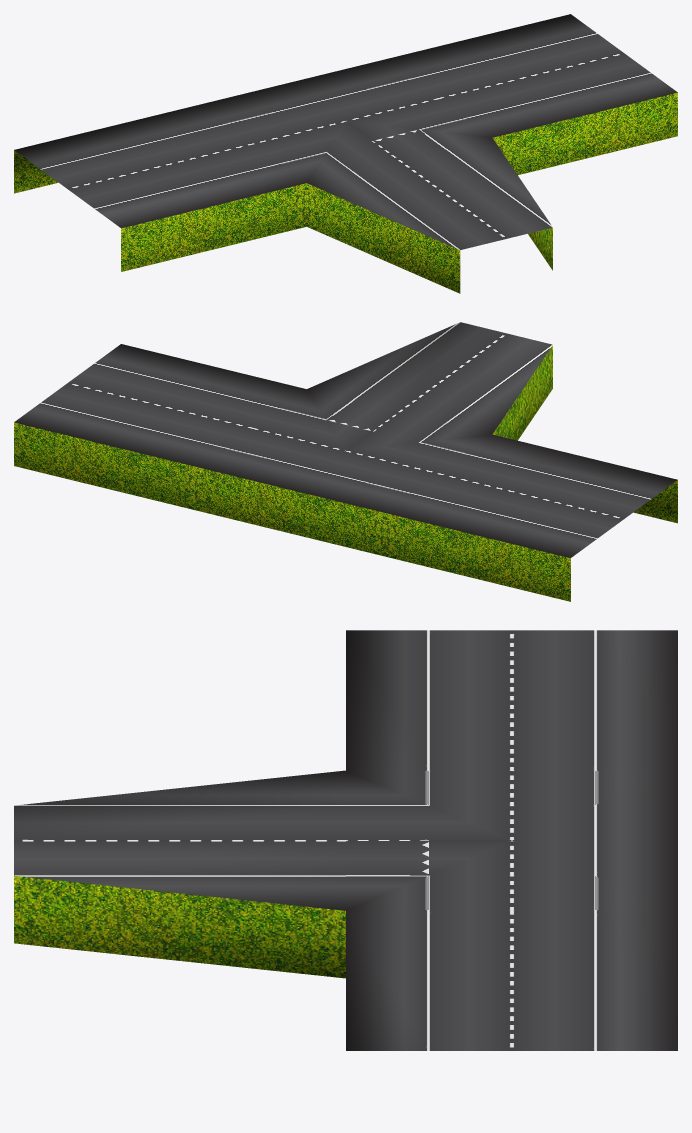
The model's file is t-splitsing_weg_1_zonder_vangrail_2.fbx.
The picture shows the model from 3 angles, top to bottom: view 1: azimuth 30°, elevation 25°; view 2: azimuth 150°, elevation 25°; view 3: azimuth 270°, elevation 25°; orthographic projection. The views are drawn at different scales.
Visible parts, largest first — view 1: kruispunt_weg_1_zonder_vangrail; view 2: kruispunt_weg_1_zonder_vangrail; view 3: kruispunt_weg_1_zonder_vangrail.
Boxes of the visible parts, x1,y1,x2,y2 form: kruispunt_weg_1_zonder_vangrail: [14, 14, 677, 293]; kruispunt_weg_1_zonder_vangrail: [14, 322, 677, 601]; kruispunt_weg_1_zonder_vangrail: [14, 630, 677, 1050].
Bounding box in the file's own units: 3000 × 225 × 2000.
